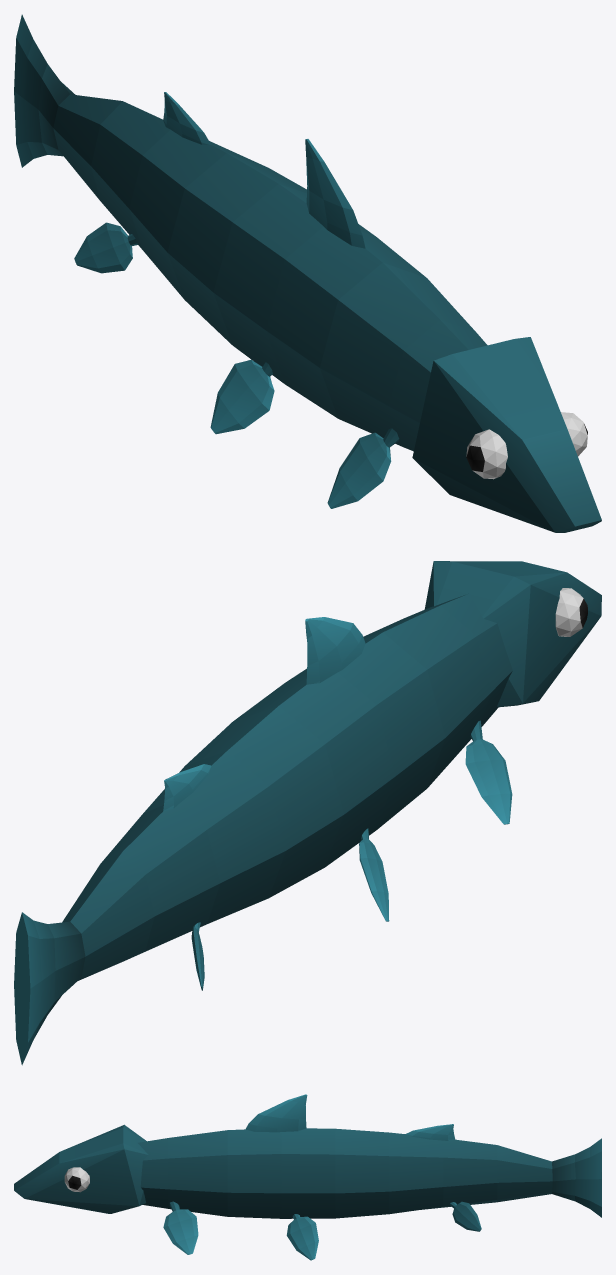
Rendered from musky.glb.
The picture shows the model from 3 angles, top to bottom: view 1: azimuth 30°, elevation 25°; view 2: azimuth 150°, elevation 25°; view 3: azimuth 270°, elevation 25°; orthographic projection. The views are drawn at different scales.
Visible parts, largest first — view 1: brochet_long_merged; view 2: brochet_long_merged; view 3: brochet_long_merged.
Boxes of the visible parts, x1,y1,x2,y2 form: brochet_long_merged: (14,14,601,532); brochet_long_merged: (14,561,601,1065); brochet_long_merged: (14,1094,601,1260).
Bounding box in the file's own units: 1.8 × 2.69 × 9.92.
Materials: 5 (5 with a texture image).
